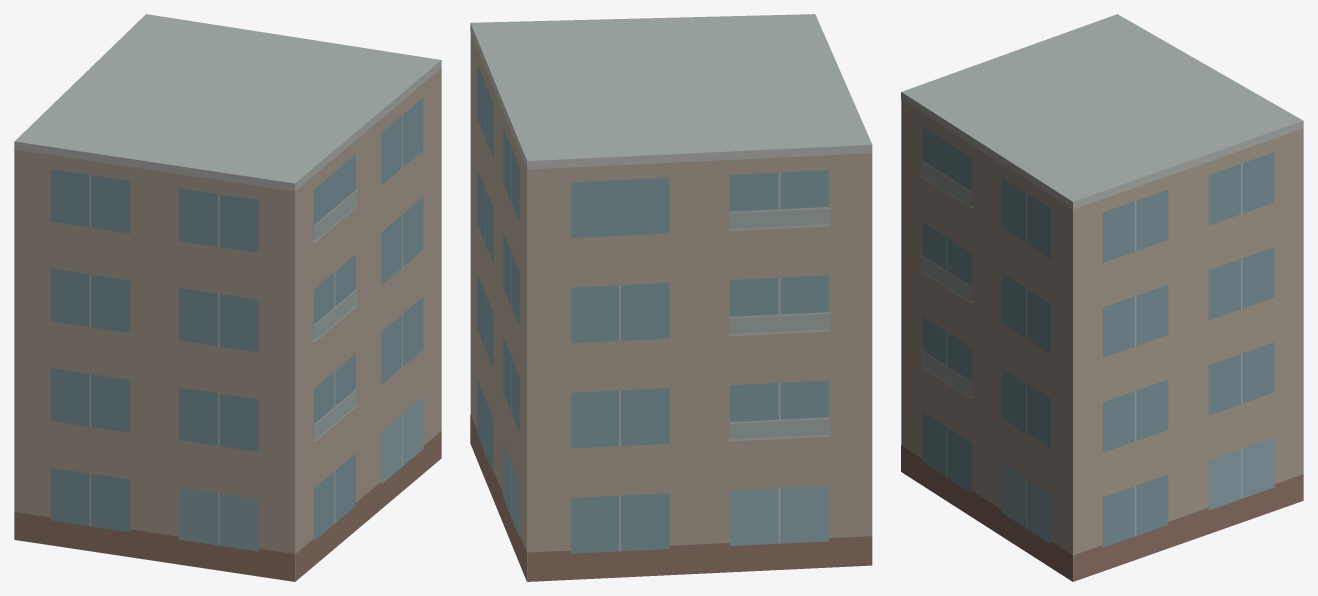
File: residential-c32abf34-bdf9-4157-9134-d19a6bdc3b40.glb
3 renders of one model, left to right at view 1: azimuth 30°, elevation 25°; view 2: azimuth 150°, elevation 25°; view 3: azimuth 270°, elevation 25°, orthographic. The views are drawn at different scales.
Parts seen in each view (by area): view 1: residential-c32abf34-bdf9-4157-9134-d19a6bdc3b40.tmp; view 2: residential-c32abf34-bdf9-4157-9134-d19a6bdc3b40.tmp; view 3: residential-c32abf34-bdf9-4157-9134-d19a6bdc3b40.tmp.
Boxes of the visible parts, x1=… form: residential-c32abf34-bdf9-4157-9134-d19a6bdc3b40.tmp: x1=14, y1=14, x2=441, y2=581; residential-c32abf34-bdf9-4157-9134-d19a6bdc3b40.tmp: x1=470, y1=14, x2=872, y2=581; residential-c32abf34-bdf9-4157-9134-d19a6bdc3b40.tmp: x1=901, y1=14, x2=1303, y2=581.
Size of the model in its own units: 12.95 by 12.2 by 11.72.
